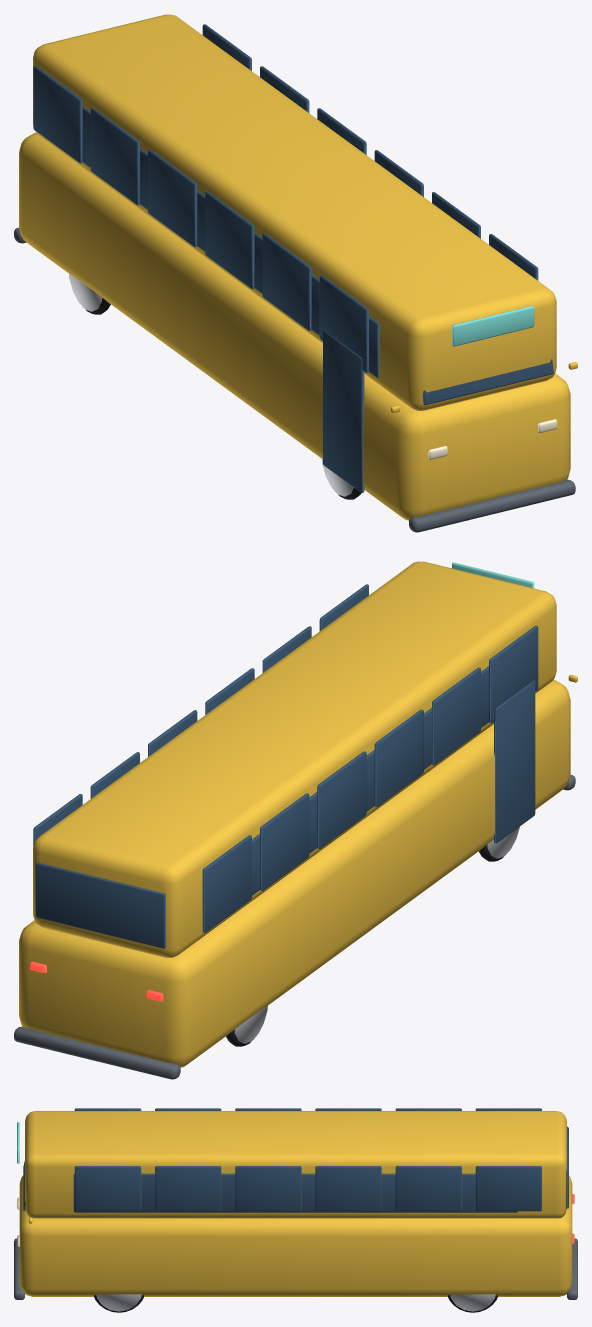
File: bus.gltf
3 views of the same model, one above another, from view 1: azimuth 30°, elevation 25°; view 2: azimuth 150°, elevation 25°; view 3: azimuth 270°, elevation 25° (orthographic). The views are drawn at different scales.
Parts seen in each view (by area): view 1: bus_body, WHEEL_rr_mesh.003; view 2: bus_body, WHEEL_rr_mesh.003; view 3: bus_body, WHEEL_fl_mesh.003, WHEEL_rl_mesh.003.
Part boxes in pixels (box(x1,y1,x2,y2)): bus_body: box(14, 14, 577, 532); WHEEL_rr_mesh.003: box(68, 273, 110, 314); bus_body: box(14, 561, 577, 1079); WHEEL_rr_mesh.003: box(226, 1005, 267, 1046); bus_body: box(14, 1108, 577, 1299); WHEEL_fl_mesh.003: box(94, 1294, 143, 1312); WHEEL_rl_mesh.003: box(448, 1294, 497, 1312).
Size of what is drawn, in the model's own units: 2.72 by 3.06 by 10.2.
